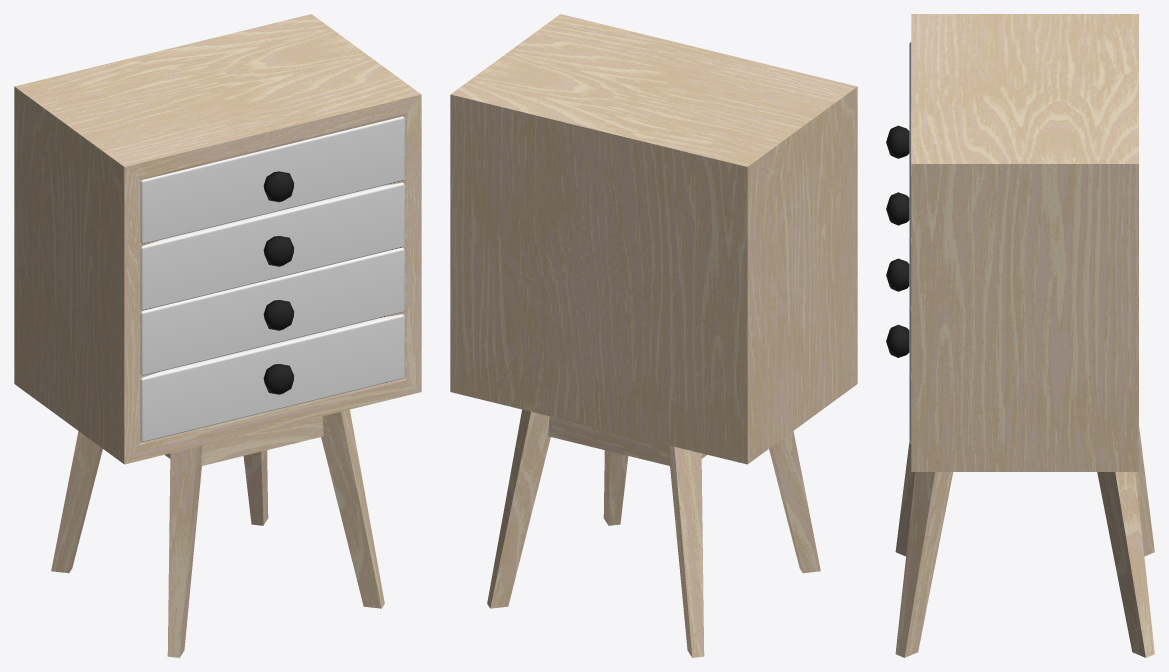
Rendered from dresser_019.fbx.
The picture shows the model from 3 angles, left to right: view 1: azimuth 30°, elevation 25°; view 2: azimuth 150°, elevation 25°; view 3: azimuth 270°, elevation 25°; orthographic projection. The views are drawn at different scales.
Visible parts, largest first — view 1: dresser_019; view 2: dresser_019; view 3: dresser_019.
Boxes of the visible parts, x1=… form: dresser_019: x1=14, y1=14, x2=421, y2=657; dresser_019: x1=450, y1=14, x2=857, y2=657; dresser_019: x1=886, y1=14, x2=1154, y2=657.
Bounding box in the file's own units: 70.88 × 53.67 × 113.
